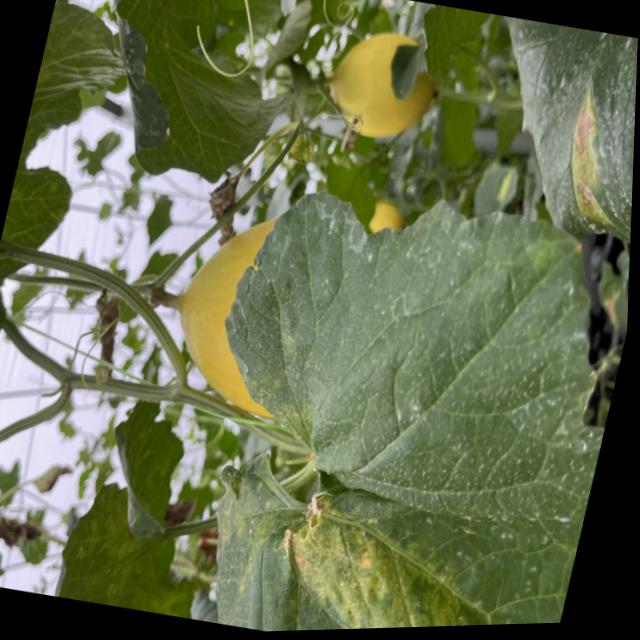alternaria leaf blight: (440, 8, 639, 261)
downy mildew: (161, 158, 633, 635)
